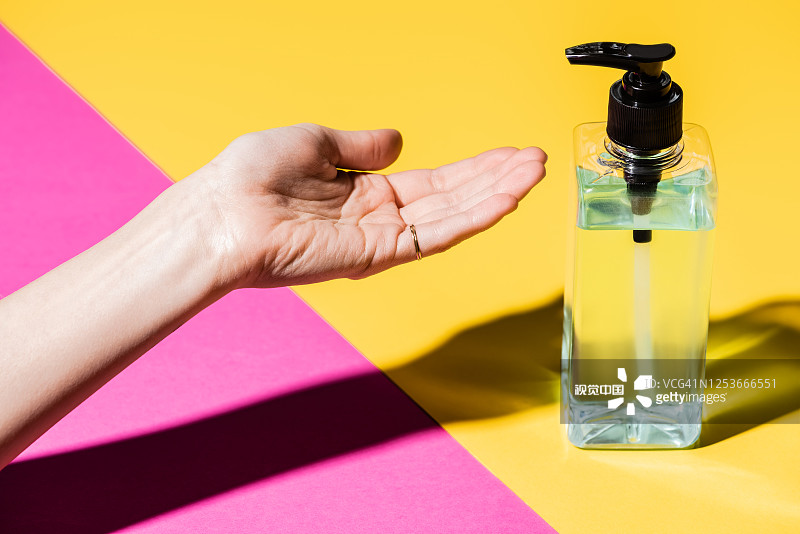no-phone: (188, 96, 568, 307)
